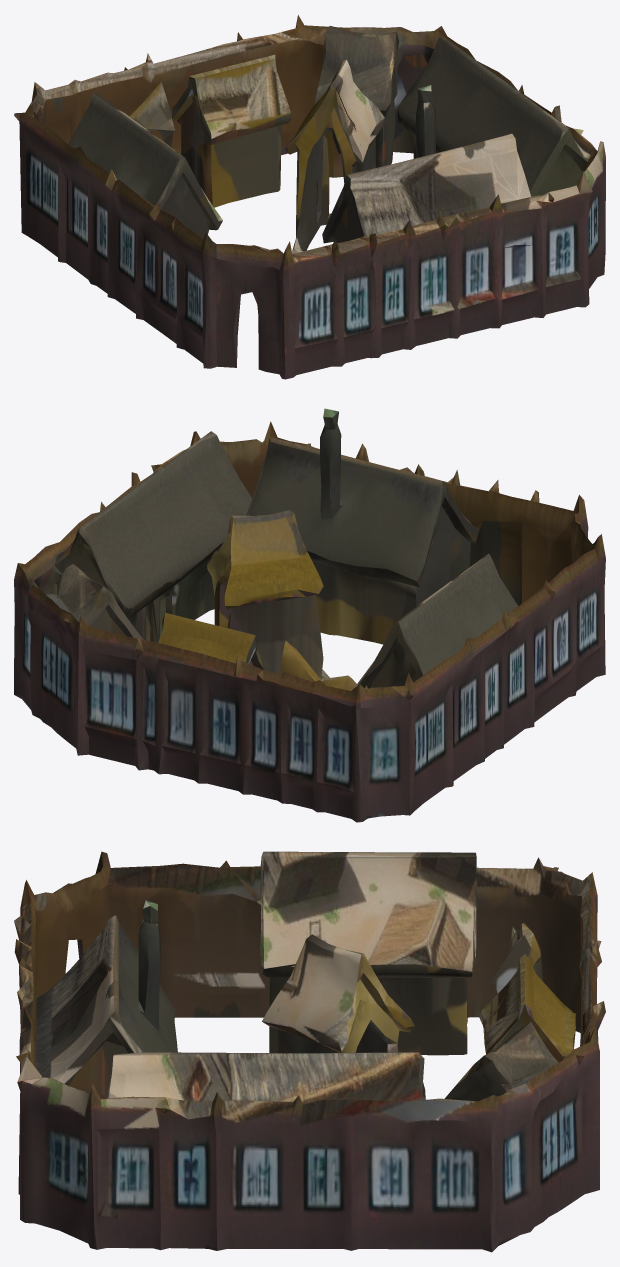
Rendered from guaranies_fortaleza.glb.
3 views of the same model, one above another, from view 1: azimuth 30°, elevation 25°; view 2: azimuth 150°, elevation 25°; view 3: azimuth 270°, elevation 25° (orthographic). The views are drawn at different scales.
Parts seen in each view (by area): view 1: geometry_0; view 2: geometry_0; view 3: geometry_0.
Boxes of the visible parts, <box> form: geometry_0: <box>14,15,605,379</box>; geometry_0: <box>14,408,605,822</box>; geometry_0: <box>14,851,605,1252</box>.
Bounding box in the file's own units: 3.32 × 1.61 × 3.4.
1 material, 1 textured.
